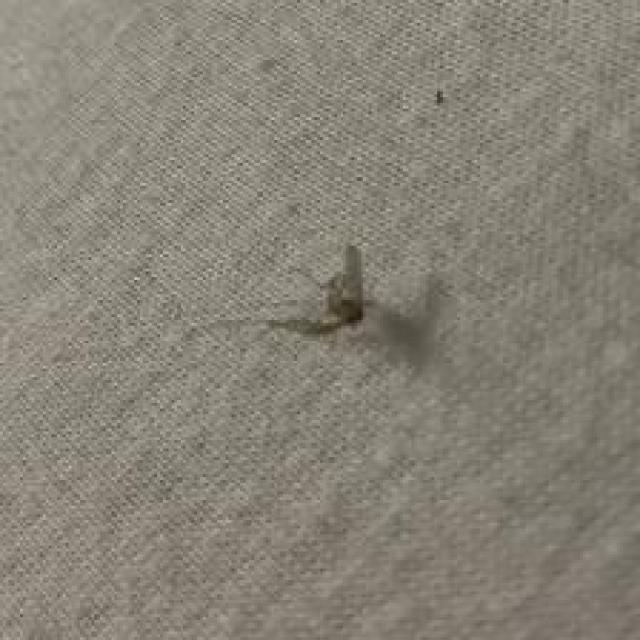Culex: (178, 240, 458, 383)
